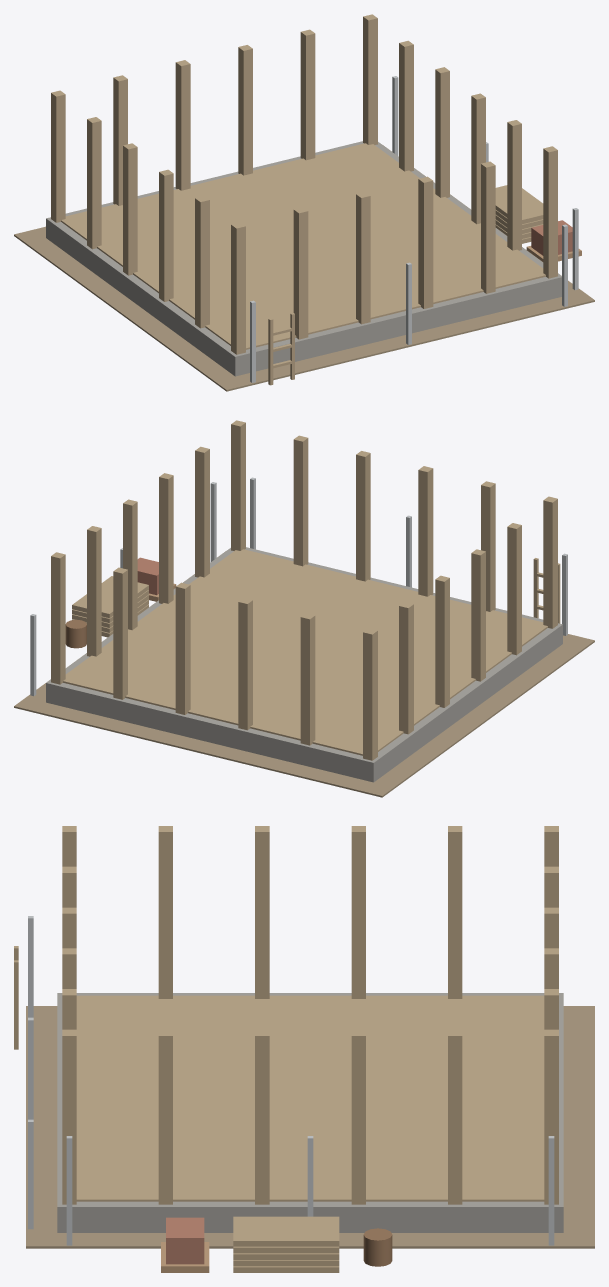
The model's file is barn_site_3.glb.
3 views of the same model, one above another, from view 1: azimuth 30°, elevation 25°; view 2: azimuth 150°, elevation 25°; view 3: azimuth 270°, elevation 25° (orthographic). The views are drawn at different scales.
Parts seen in each view (by area): view 1: body; view 2: body; view 3: body.
Part boxes in pixels (x1,y1,x2,y2): body: [14, 14, 594, 391]; body: [14, 420, 594, 797]; body: [14, 826, 594, 1272].
Bounding box in the file's own units: 2.6 × 0.903 × 2.41.
